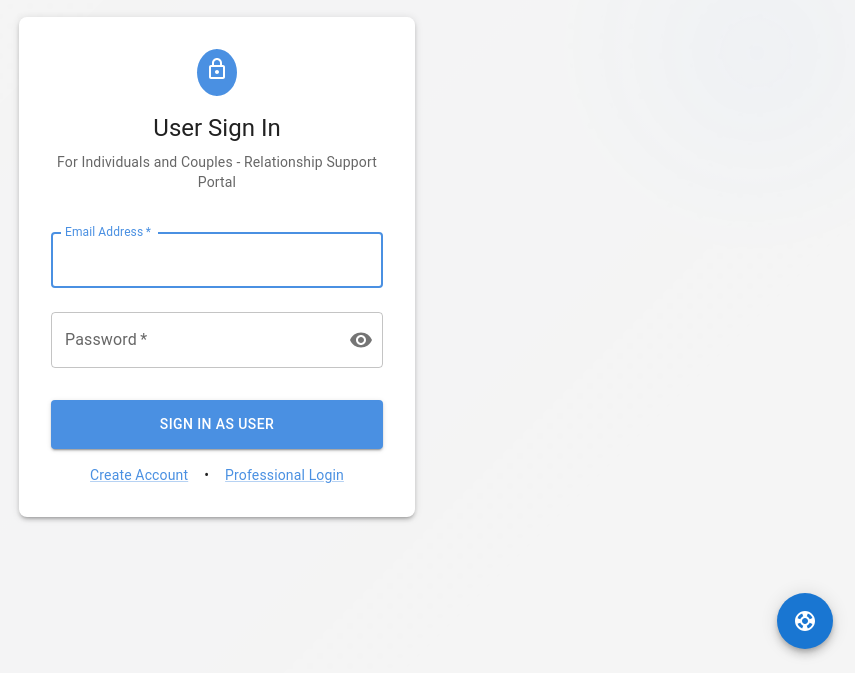
Scenario: Login Page › shows error with invalid credentials
In the field named "email": [217, 260] box [51, 232, 383, 288], type "invalid@example.com"
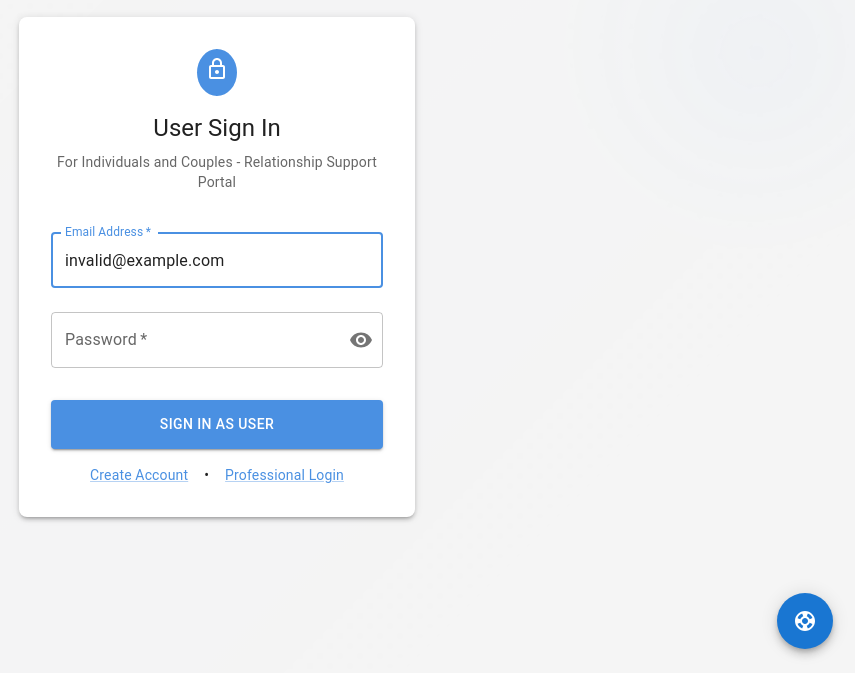
In the password field named "password": [192, 340] box [51, 312, 333, 368], type "wrongpassword"
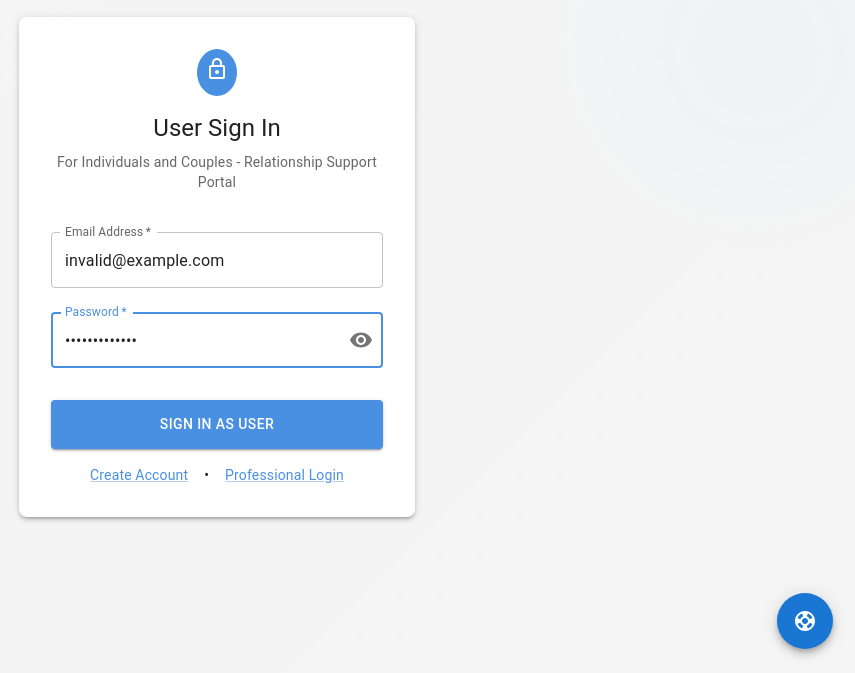
Click the submit button: [217, 425] box [51, 400, 383, 449]
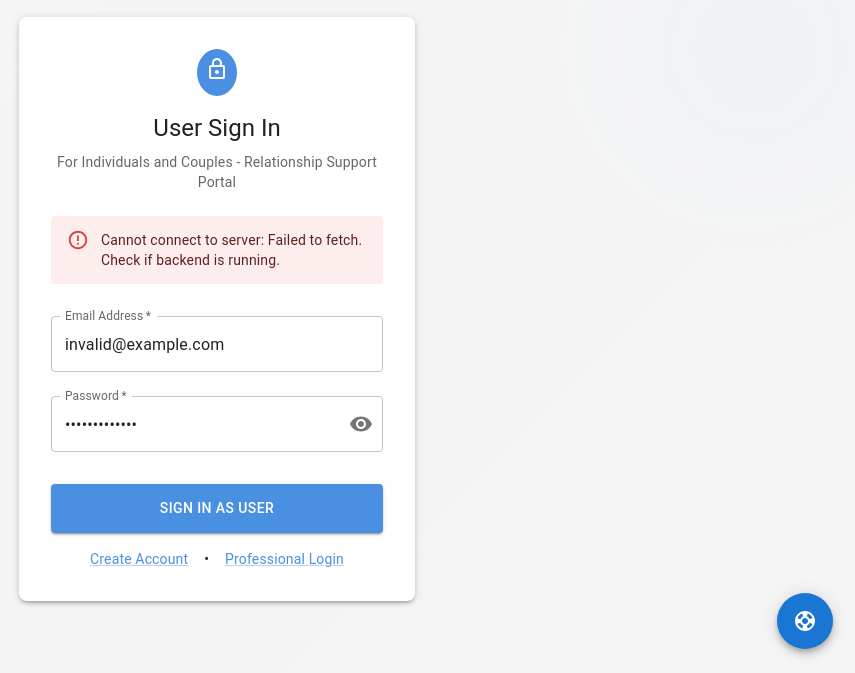
Result: the message "Cannot connect to server: Failed to fetch. Check if backend is running." is shown at [51, 216, 383, 284]
